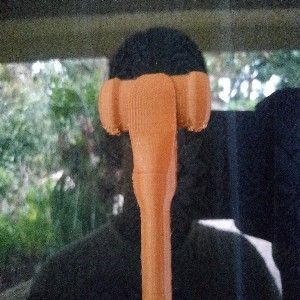palu: (97, 70, 211, 300)
